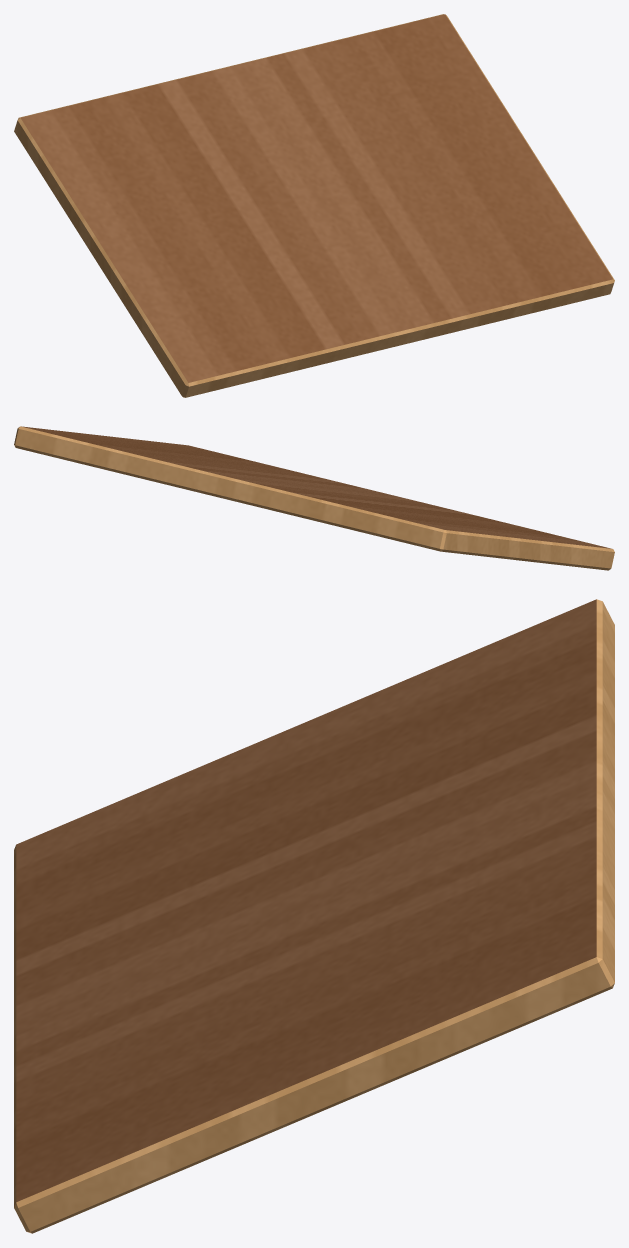
Rendered from sm_farm_roof.glb.
The picture shows the model from 3 angles, top to bottom: view 1: azimuth 30°, elevation 25°; view 2: azimuth 150°, elevation 25°; view 3: azimuth 270°, elevation 25°; orthographic projection. The views are drawn at different scales.
Parts seen in each view (by area): view 1: sm_farm_roof; view 2: sm_farm_roof; view 3: sm_farm_roof.
Part boxes in pixels (left/top/right/bottom): sm_farm_roof: left=14, top=14, right=614, bottom=397; sm_farm_roof: left=14, top=426, right=614, bottom=570; sm_farm_roof: left=14, top=599, right=614, bottom=1233.
Bounding box in the file's own units: 1.12 × 0.3995 × 0.7864.
1 material, 1 textured.
